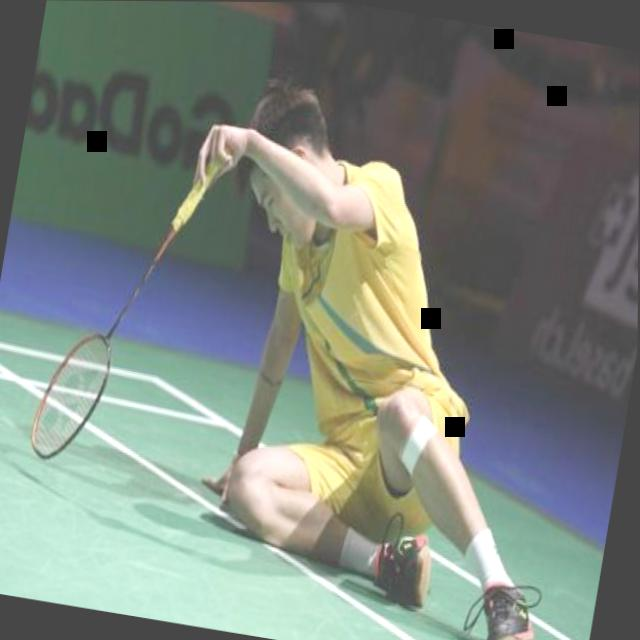Fall-Detected: (129, 60, 636, 640)
